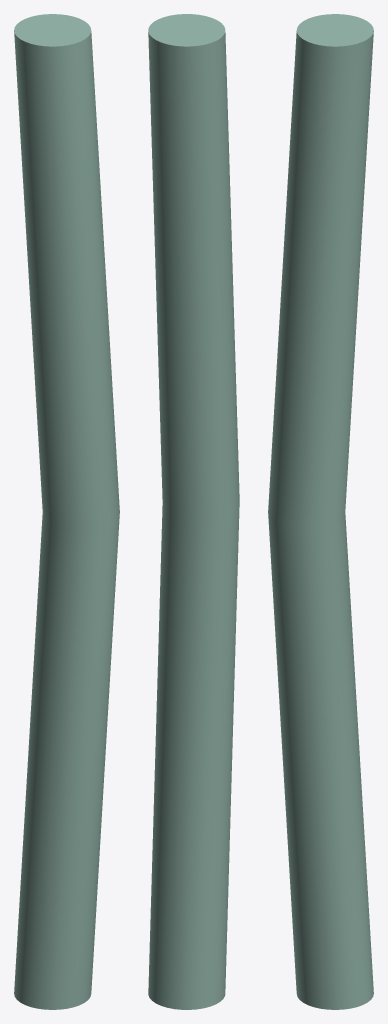
The model's file is Drain pipe module 02.fbx.
3 renders of one model, left to right at view 1: azimuth 90°, elevation 25°; view 2: azimuth 150°, elevation 25°; view 3: azimuth 270°, elevation 25°, orthographic.
Parts seen in each view (by area): view 1: Cylinder.011; view 2: Cylinder.011; view 3: Cylinder.011.
Boxes of the visible parts, bbox=[...] form: Cylinder.011: bbox=[14, 14, 119, 1009]; Cylinder.011: bbox=[148, 14, 239, 1009]; Cylinder.011: bbox=[268, 14, 373, 1009].
Bounding box in the file's own units: 20.62 × 284 × 28.25.
